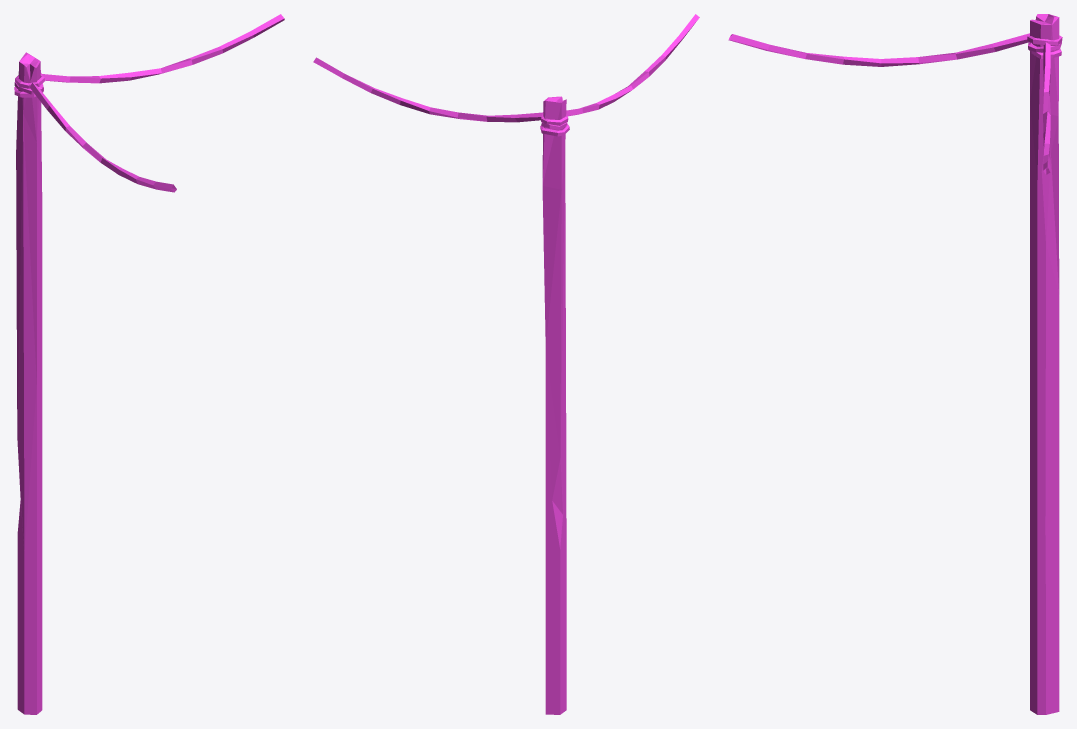
The model's file is SM_Pier_Rope_Pillar_Corner_Fantasy.fbx.
The picture shows the model from 3 angles, left to right: view 1: azimuth 30°, elevation 25°; view 2: azimuth 150°, elevation 25°; view 3: azimuth 270°, elevation 25°; orthographic projection. The views are drawn at different scales.
Parts seen in each view (by area): view 1: SM_Pier_Rope_Pillar_Corner_Fantasy; view 2: SM_Pier_Rope_Pillar_Corner_Fantasy; view 3: SM_Pier_Rope_Pillar_Corner_Fantasy.
Boxes of the visible parts, left/top/right/bottom form: SM_Pier_Rope_Pillar_Corner_Fantasy: left=14, top=14, right=284, bottom=714; SM_Pier_Rope_Pillar_Corner_Fantasy: left=313, top=14, right=699, bottom=714; SM_Pier_Rope_Pillar_Corner_Fantasy: left=728, top=14, right=1062, bottom=714.
Bounding box in the file's own units: 3.11 × 7.23 × 3.15.
